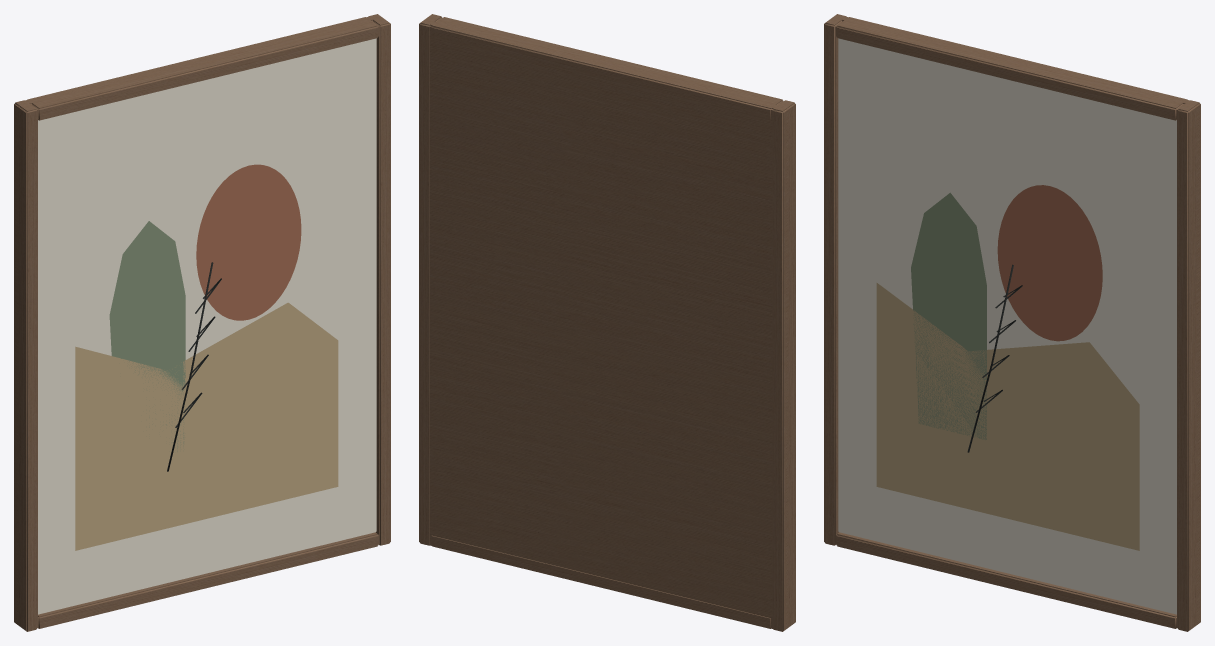
Rendered from industrial.art.gltf.
3 renders of one model, left to right at view 1: azimuth 30°, elevation 25°; view 2: azimuth 150°, elevation 25°; view 3: azimuth 330°, elevation 25°, orthographic.
Visible parts, largest first — view 1: industrial.art.backing; view 2: industrial.art.backing; view 3: industrial.art.backing.
Boxes of the visible parts, <box> form: industrial.art.backing: <box>14,14,390,631</box>; industrial.art.backing: <box>419,14,795,631</box>; industrial.art.backing: <box>824,14,1200,631</box>.
Size of the model in its own units: 0.55 by 0.75 by 0.035.
Materials: 6 (1 with a texture image).
